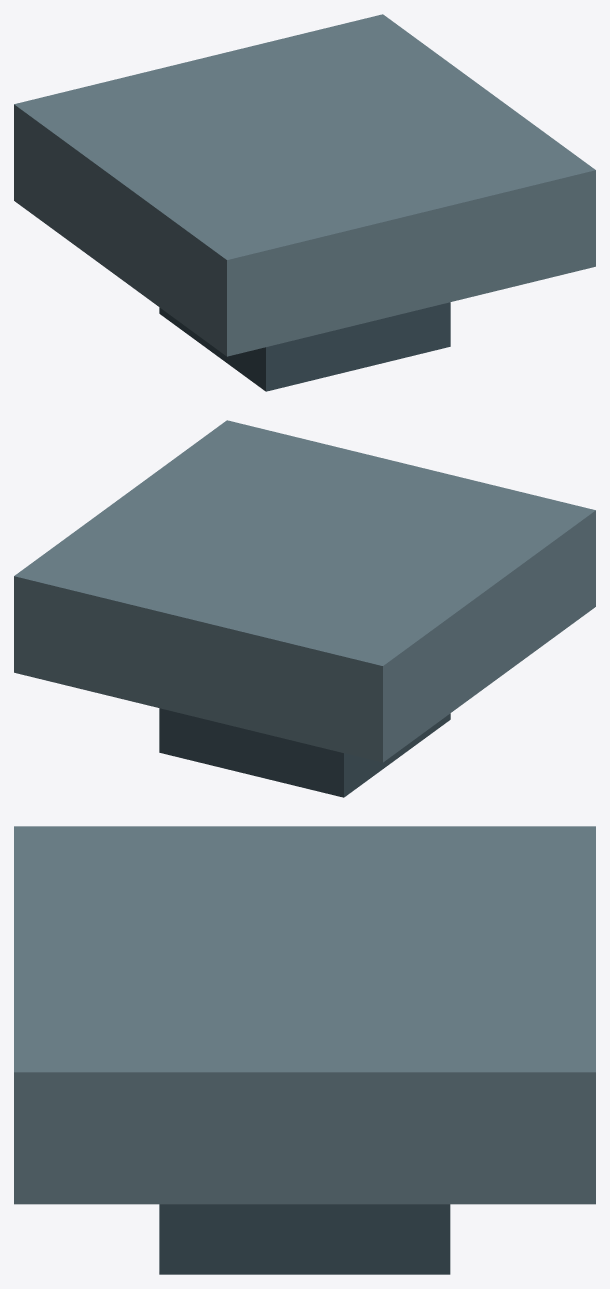
The model's file is sb03.abutment-cap.palette.fbx.
3 renders of one model, top to bottom at view 1: azimuth 30°, elevation 25°; view 2: azimuth 150°, elevation 25°; view 3: azimuth 270°, elevation 25°, orthographic. The views are drawn at different scales.
Parts seen in each view (by area): view 1: VW.cap.001, VW.seat.001; view 2: VW.cap.001, VW.seat.001; view 3: VW.cap.001, VW.seat.001.
Part boxes in pixels (x1=…): VW.cap.001: x1=14, y1=14, x2=595, y2=356; VW.seat.001: x1=159, y1=302, x2=450, y2=391; VW.cap.001: x1=14, y1=420, x2=595, y2=762; VW.seat.001: x1=159, y1=708, x2=450, y2=797; VW.cap.001: x1=14, y1=826, x2=595, y2=1204; VW.seat.001: x1=159, y1=1204, x2=450, y2=1274.
Bounding box in the file's own units: 50 × 25 × 50.
Materials: 1 (1 with a texture image).
